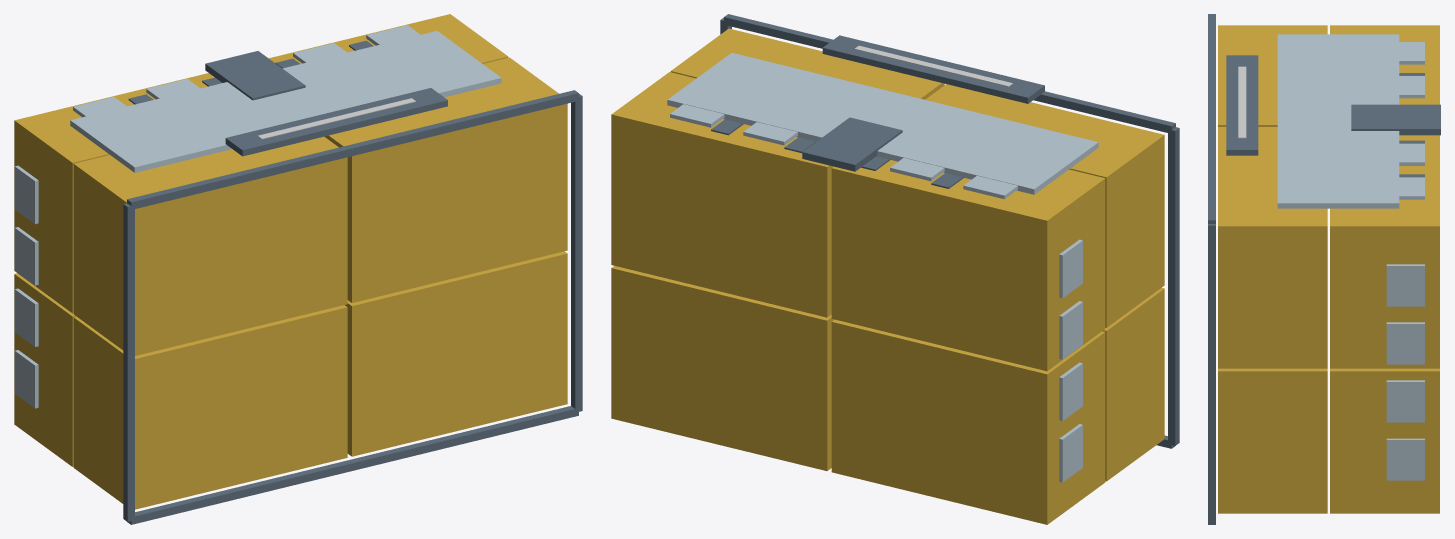
File: building-gym.glb
3 renders of one model, left to right at view 1: azimuth 30°, elevation 25°; view 2: azimuth 150°, elevation 25°; view 3: azimuth 270°, elevation 25°, orthographic. The views are drawn at different scales.
Parts seen in each view (by area): view 1: world; view 2: world; view 3: world.
Boxes of the visible parts, x1=… form: world: x1=14, y1=14, x2=582, y2=524; world: x1=611, y1=14, x2=1179, y2=524; world: x1=1208, y1=14, x2=1440, y2=524.
Bounding box in the file's own units: 15.5 × 11.02 × 7.28.
